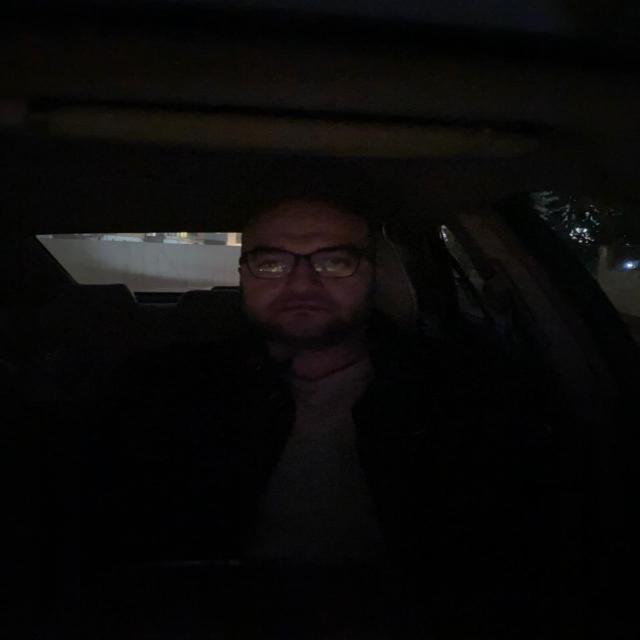person: (234, 185, 392, 358)
